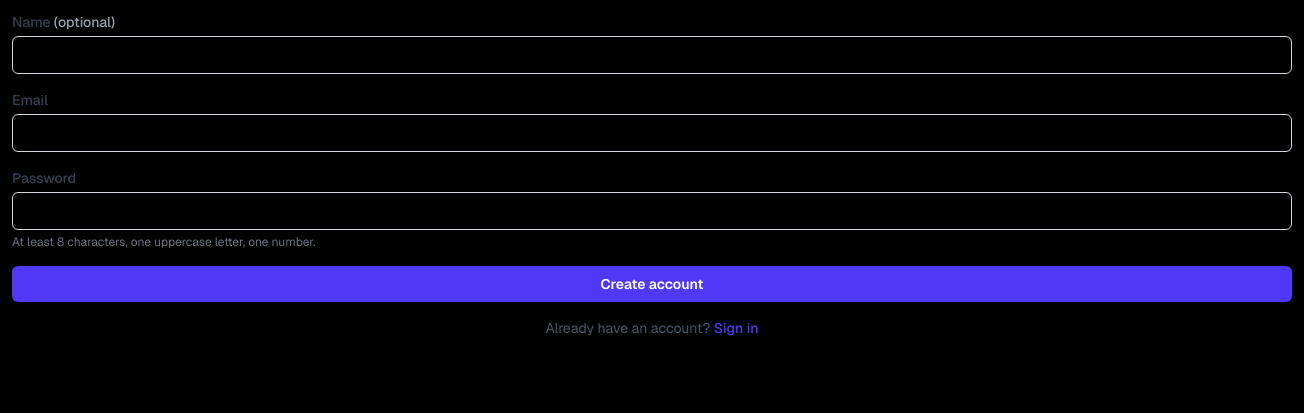
it: RegisterForm › shows network error on fetch failure
Step 1. Type "new@example.com" into the field labelled "Email" → (652, 133), box x1=12 y1=114 x2=1292 y2=152
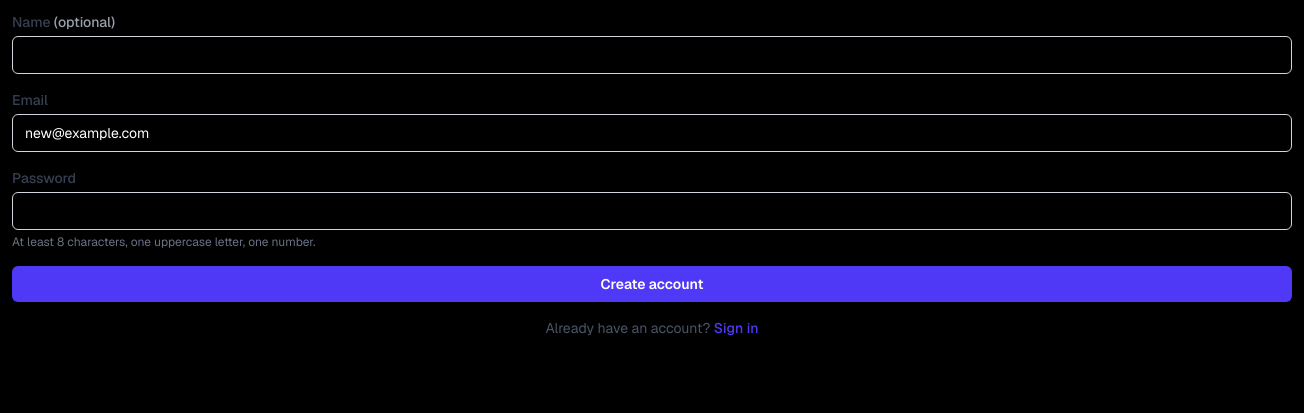
Step 2. Type "SecurePass1" into the password field labelled "Password" → (652, 211), box x1=12 y1=192 x2=1292 y2=230
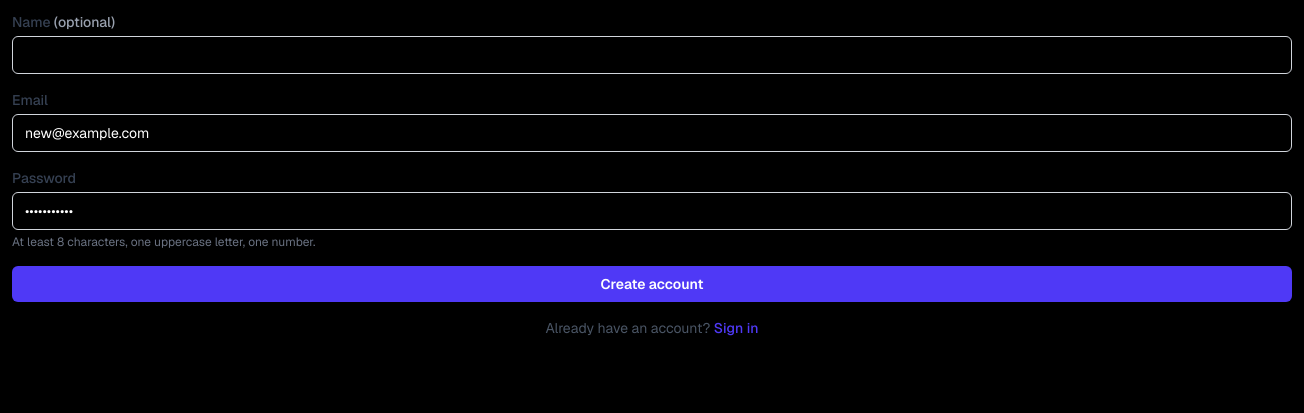
Step 3. Click the button "Create account" → (652, 284), box x1=12 y1=266 x2=1292 y2=302
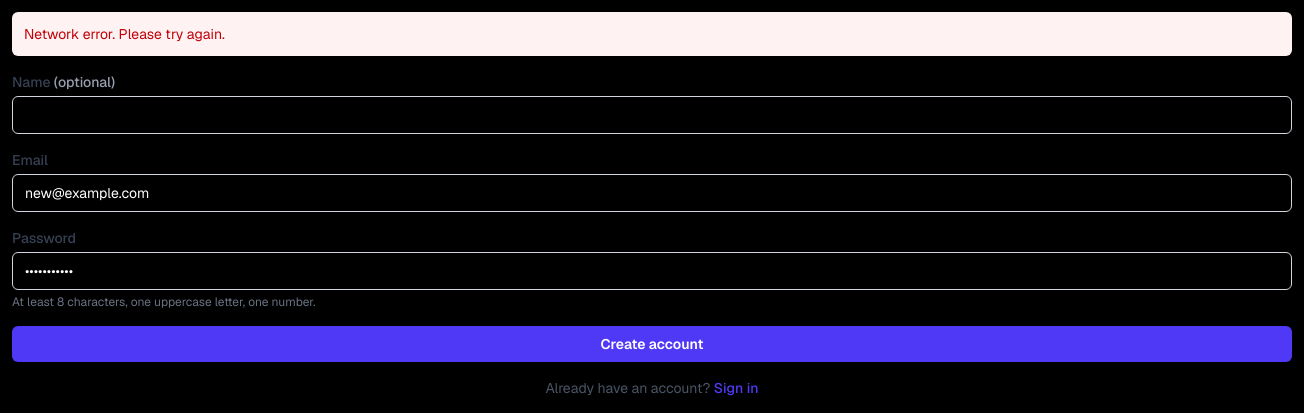
expect the message shows "Network error": met, box x1=24 y1=25 x2=225 y2=43
